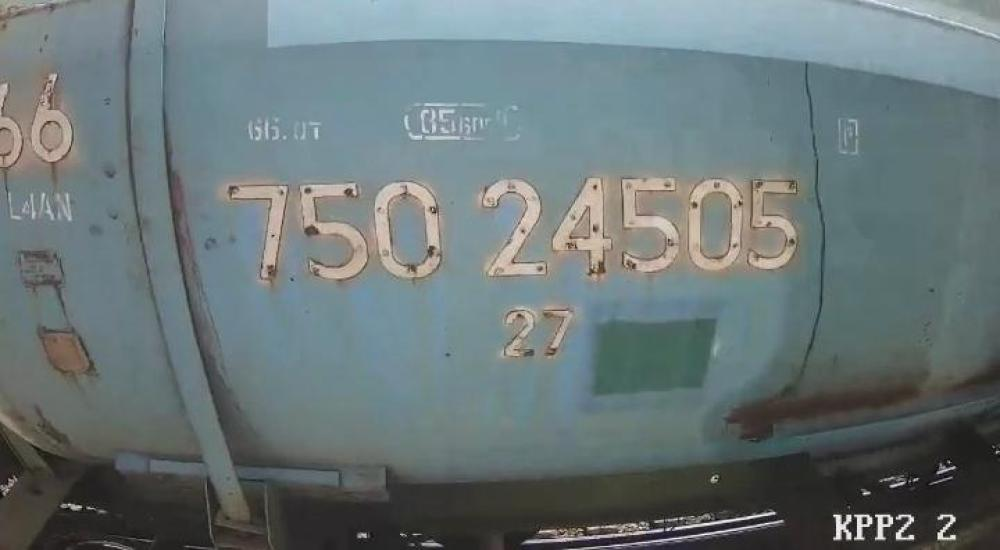Wagon-number: (221, 170, 805, 286)
